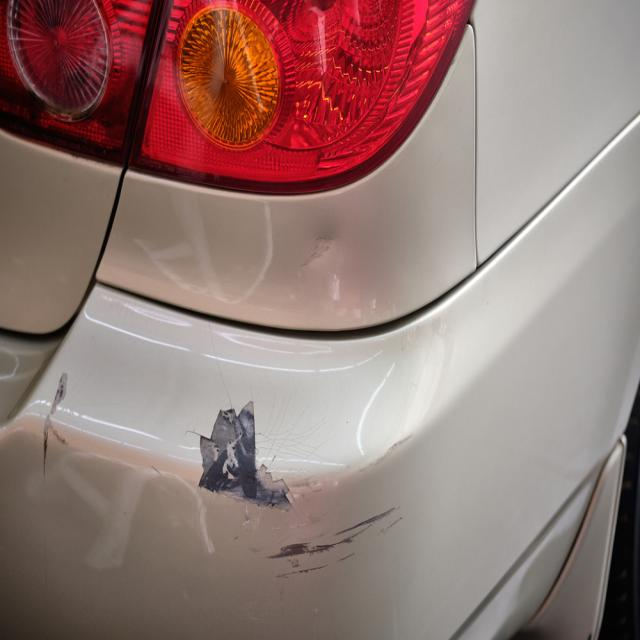dent: (299, 223, 337, 278)
scratch: (196, 399, 409, 579), (39, 367, 69, 477)
